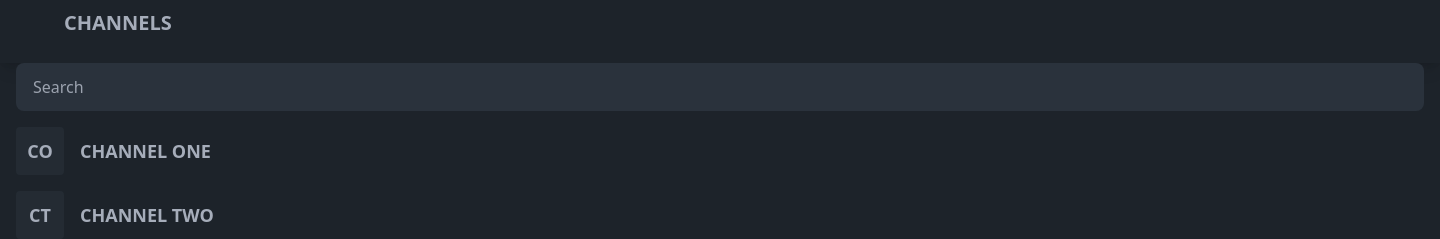
AllChannels.svelte › should filter the channels
The width and height of the screenshot is (1440, 239).
Type "one" into the field with placeholder "Search".
click(720, 87); type("one")  # box [16,63,1424,111]
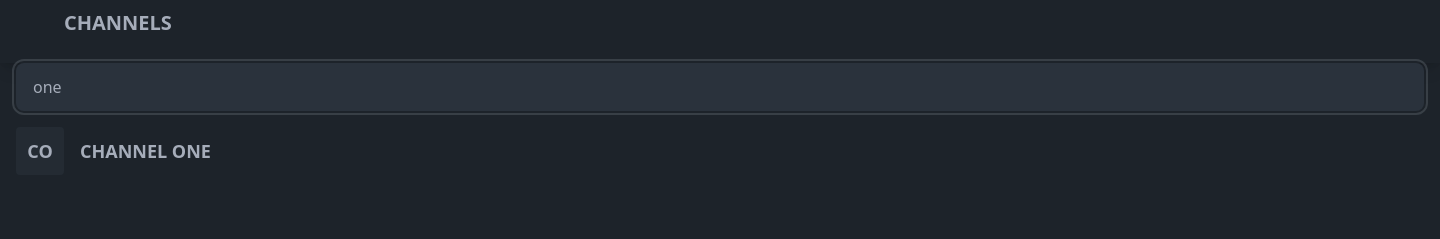
Expected: the text "Channel one" is shown, [80,137,211,165]
Expected: the number of list items is 1, [16,127,1424,175]
